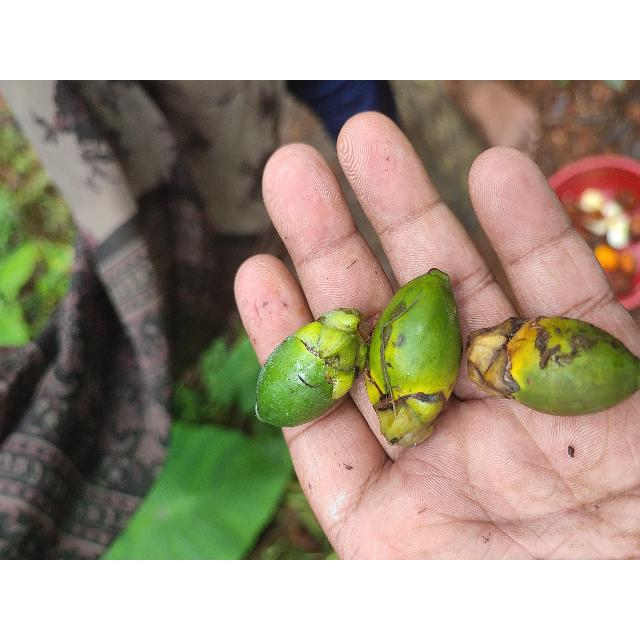damaged: (364, 270, 464, 450), (467, 317, 640, 418), (256, 310, 363, 430)
